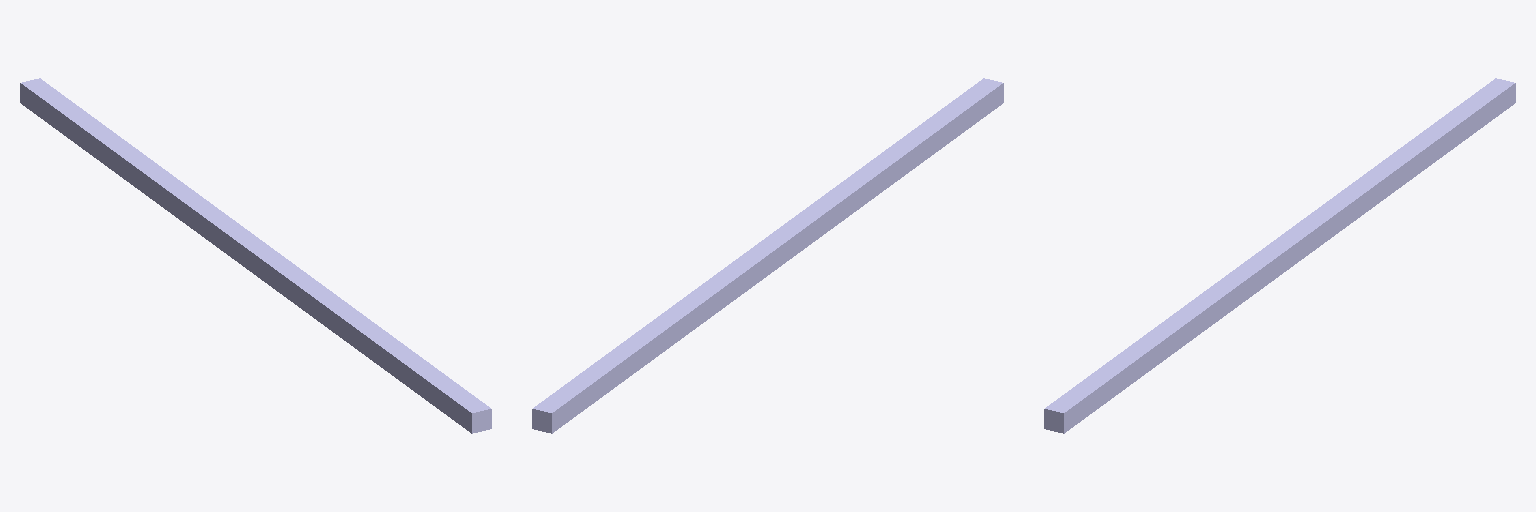
URDF robot description (hit_ball_with_queue_stopper2):
<?xml version="1.0"?>
<robot name="hit_ball_with_queue_stopper2">
    <link name="robot_base">
        <inertial>
            <origin rpy="0.000000 0.000000 0.000000" xyz="0.314600 0.000000 0.760000" />
            <inertia iyy="0.0010572118600667" iyz="1.5656470670435e-11" ixx="0.00078661598519292" izz="3.3149268293965e-07" ixz="-5.8811612722704e-12" ixy="-3.9376787719559e-14" />
            <mass value="0.067200005054474" />
        </inertial>
        <collision name="hit_ball_with_queue_stopper2">
            <origin rpy="-3.141593 3.141593 -3.141593" xyz="0.314600 0.000000 0.760000" />
            <geometry>
                <box size="0.000400 0.016000 0.000400" />
            </geometry>
        </collision>
        <visual name="hit_ball_with_queue_stopper2">
            <origin rpy="-3.141593 3.141593 -3.141593" xyz="0.314600 0.000000 0.760000" />
            <geometry>
                <box size="0.000400 0.016000 0.000400" />
            </geometry>
            <material name="robot_base_material">
                <color rgba="0.850000 0.850000 1.000000 1.0" />
            </material>
        </visual>
    </link>
</robot>

--- What the picture shows (computed from the rendered views, not written in the file) ---
The picture shows the robot from 3 angles, left to right: view 1: azimuth 30°, elevation 25°; view 2: azimuth 150°, elevation 25°; view 3: azimuth 330°, elevation 25°; orthographic projection.
Robot: hit_ball_with_queue_stopper2 — 1 links, 0 joints (none); root link robot_base; default pose: all joints at 0.
Visible links, largest first — view 1: robot_base; view 2: robot_base; view 3: robot_base.
Link boxes in pixels (x1,y1,x2,y2): robot_base: (20,78,491,433); robot_base: (532,78,1003,433); robot_base: (1044,78,1515,433).
Size in the robot's own frame: 0.0004 by 0.016 by 0.0004 metres.
Geometry: primitives only (box / cylinder / sphere), no mesh files.
